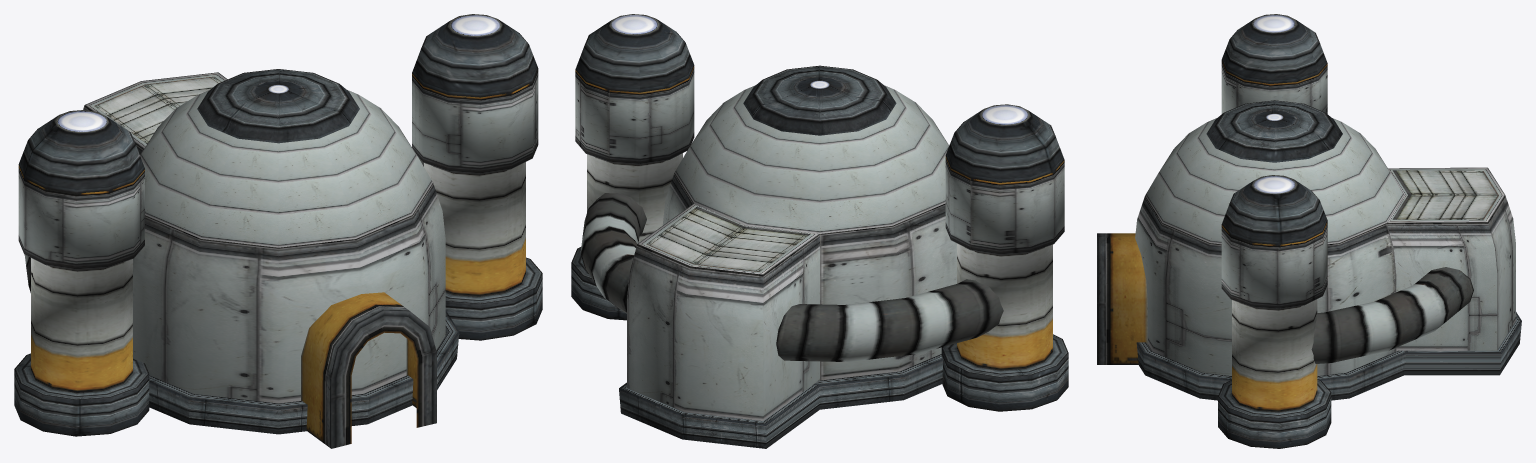
Rendered from redondalab.fbx.
3 views of the same model, side by side, from view 1: azimuth 30°, elevation 25°; view 2: azimuth 150°, elevation 25°; view 3: azimuth 270°, elevation 25° (orthographic). The views are drawn at different scales.
Parts seen in each view (by area): view 1: Torus.001; view 2: Torus.001; view 3: Torus.001.
Part boxes in pixels (x1,y1,x2,y2): Torus.001: [14, 14, 542, 448]; Torus.001: [571, 14, 1068, 448]; Torus.001: [1097, 14, 1521, 448].
Size of the model in its own units: 11.59 by 6.22 by 9.97.
